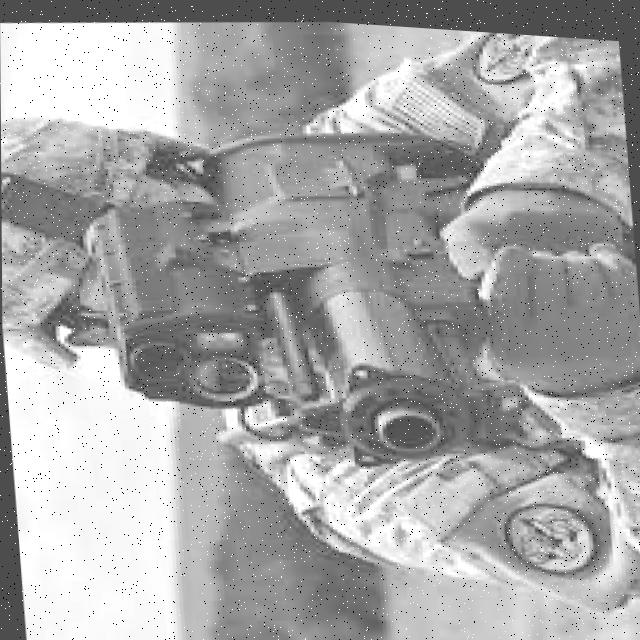firearm: (95, 111, 509, 481)
